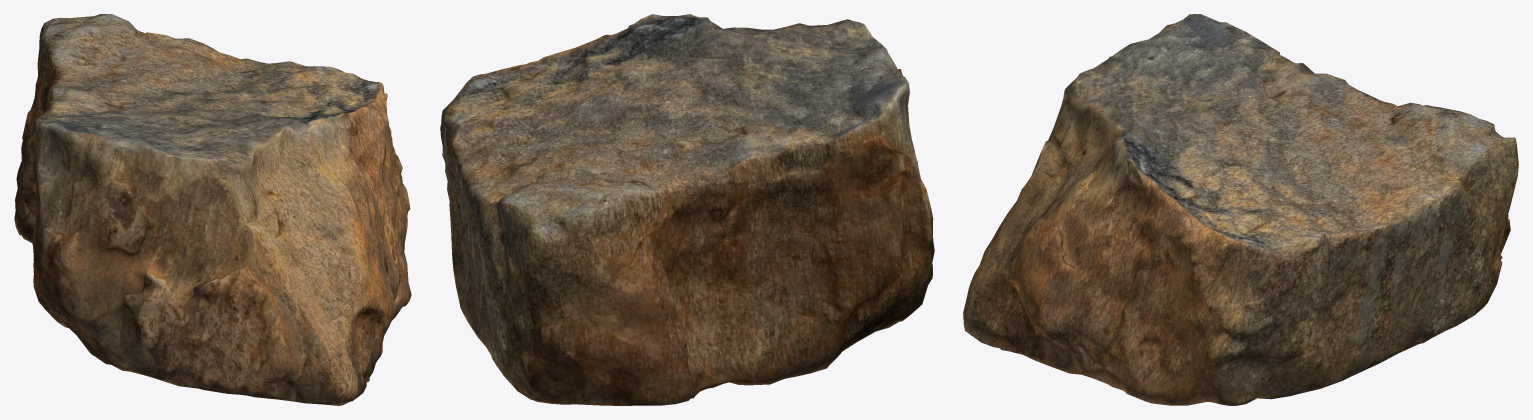
File: desert_boulder_blocky.glb
3 renders of one model, left to right at view 1: azimuth 30°, elevation 25°; view 2: azimuth 150°, elevation 25°; view 3: azimuth 270°, elevation 25°, orthographic. The views are drawn at different scales.
Visible parts, largest first — view 1: boulder_03_LOD0; view 2: boulder_03_LOD0; view 3: boulder_03_LOD0.
Boxes of the visible parts, bbox=[...] form: boulder_03_LOD0: bbox=[14, 14, 411, 405]; boulder_03_LOD0: bbox=[440, 14, 934, 405]; boulder_03_LOD0: bbox=[963, 14, 1518, 405].
Bounding box in the file's own units: 2.4 × 1.47 × 3.06.
Materials: 1 (1 with a texture image).
